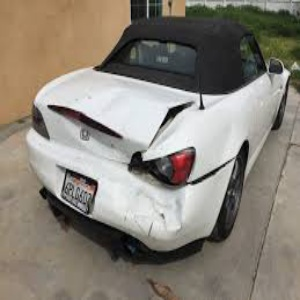bumper: (120, 184, 195, 243)
